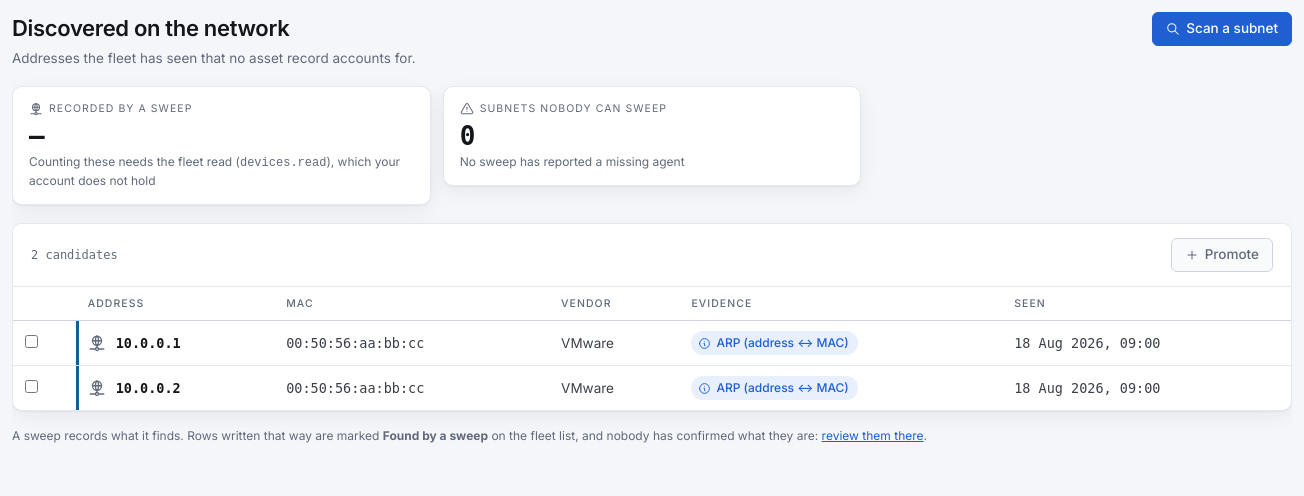
Test: CandidatesPage › still reports one client's results when another client's request fails
Expected: the text "10.0.0.1" is shown, [116,333,181,354]
Click the checkbox named "10.0.0.1": x=32, y=342 [25,335,38,348]
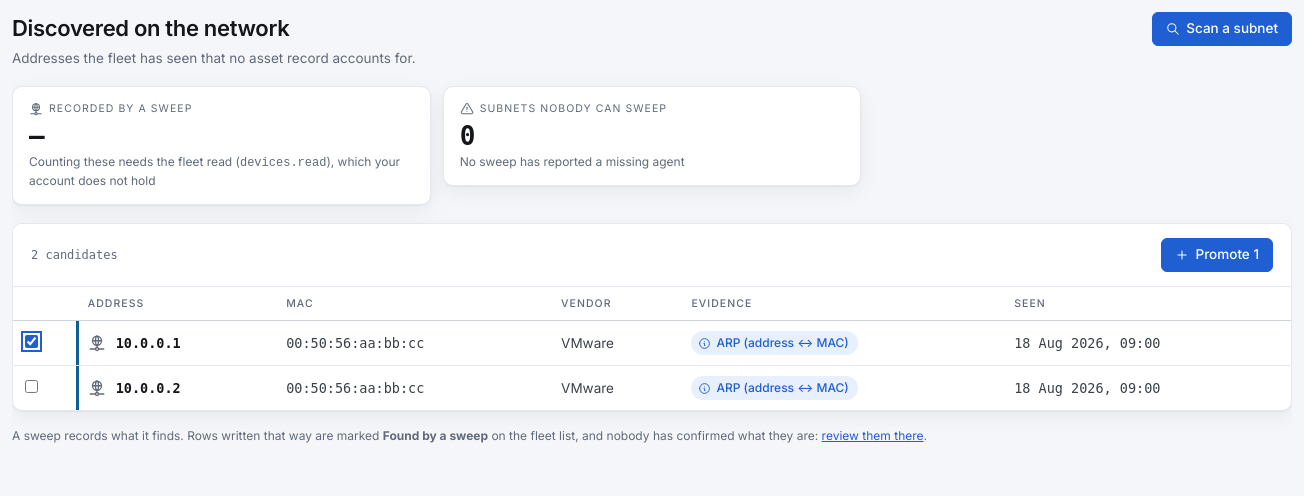
Click the checkbox named "10.0.0.2": x=32, y=387 [25,380,38,393]
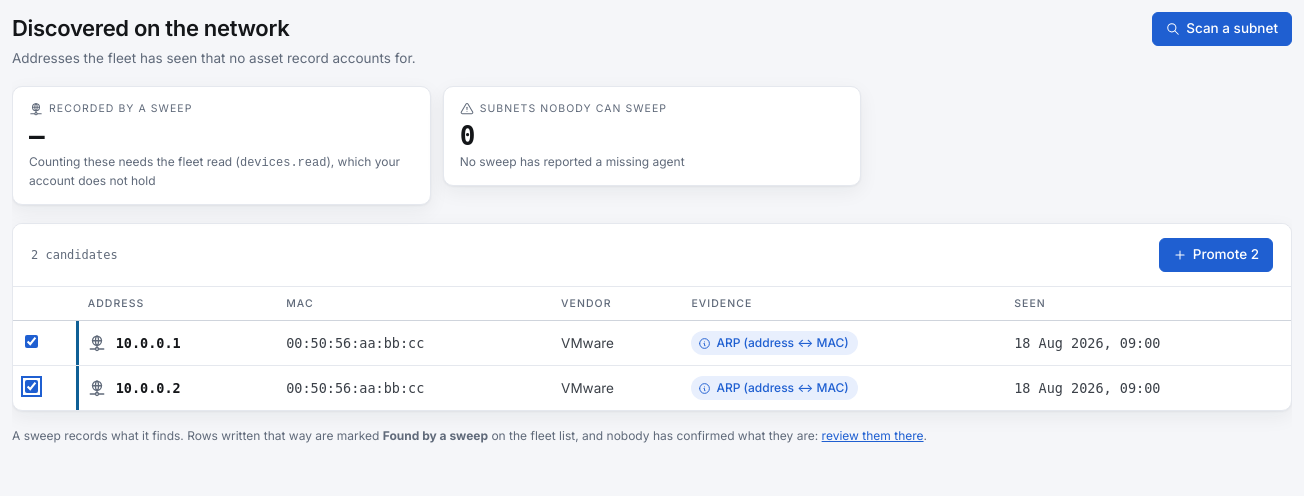
Click the button "Promote 2": x=1216, y=255 [1159,238,1273,272]
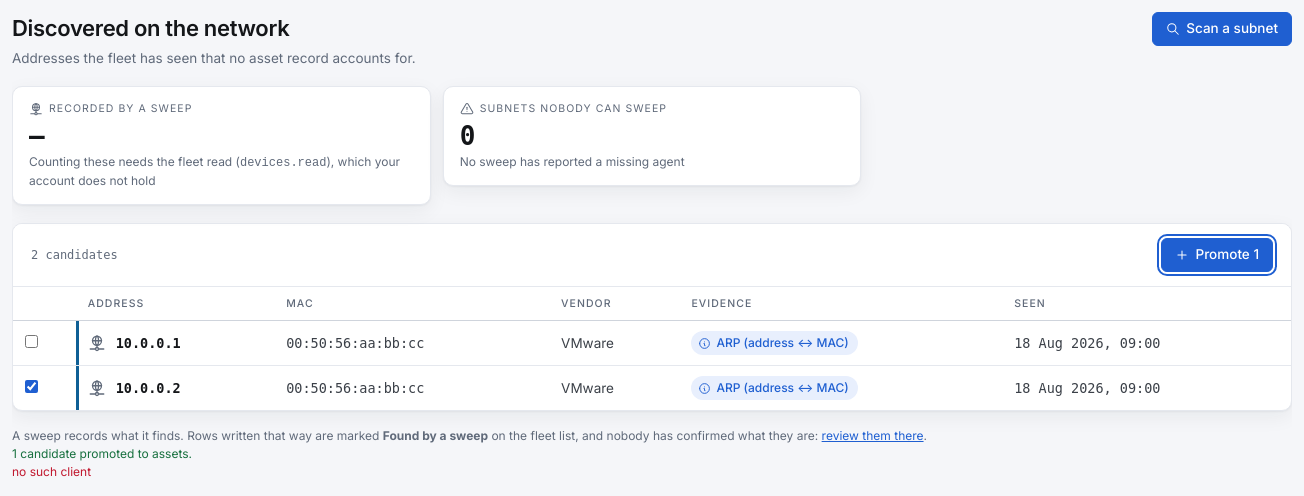
Expected: the text "1 candidate promoted to assets." is shown, [12,446,192,461]
Expected: the text "no such client" is shown, [12,464,91,479]
